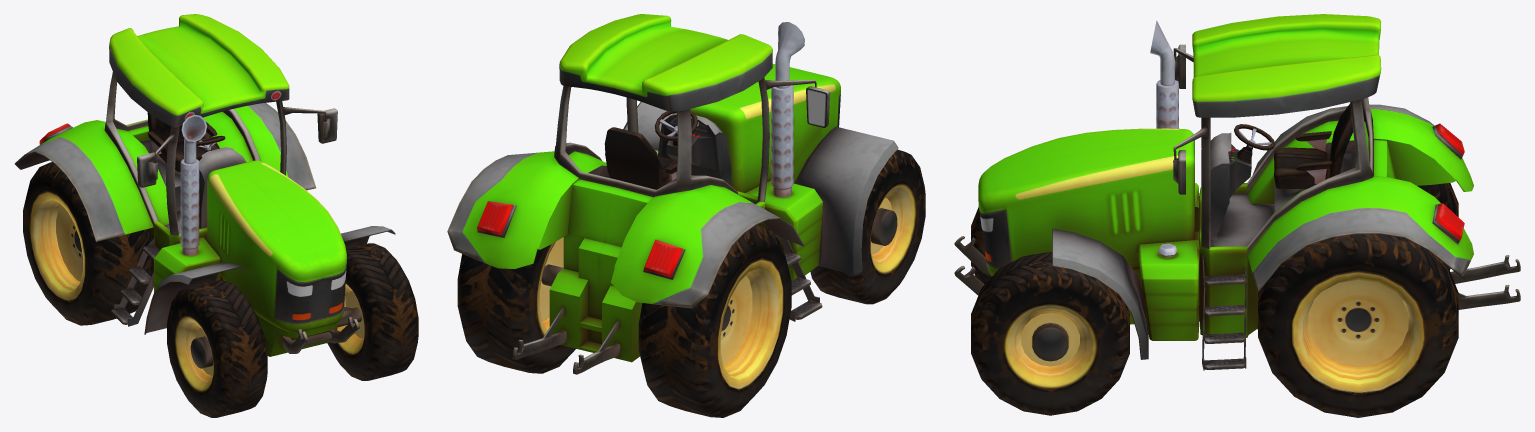
The model's file is Tractor02.FBX.
3 renders of one model, left to right at view 1: azimuth 30°, elevation 25°; view 2: azimuth 150°, elevation 25°; view 3: azimuth 270°, elevation 25°, orthographic. The views are drawn at different scales.
Visible parts, largest first — view 1: Tractor02; view 2: Tractor02; view 3: Tractor02.
Boxes of the visible parts, x1,y1,x2,y2 form: Tractor02: (14, 14, 418, 417); Tractor02: (447, 14, 925, 417); Tractor02: (954, 14, 1520, 417).
Size of the model in its own units: 2.43 by 2.84 by 4.5.
